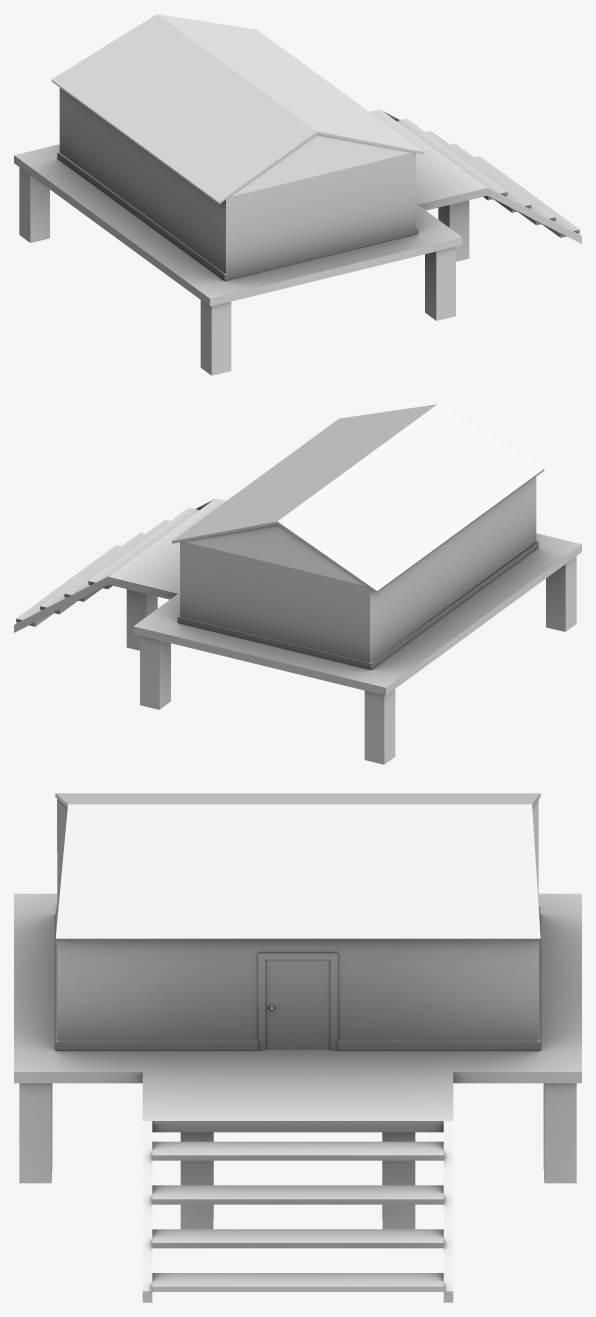
The model's file is ElectricalDep.fbx.
3 renders of one model, top to bottom at view 1: azimuth 30°, elevation 25°; view 2: azimuth 150°, elevation 25°; view 3: azimuth 270°, elevation 25°, orthographic. The views are drawn at different scales.
Parts seen in each view (by area): view 1: Электроцех; view 2: Электроцех; view 3: Электроцех.
Part boxes in pixels (<box>): Электроцех: <box>14,14,581,375</box>; Электроцех: <box>14,404,581,764</box>; Электроцех: <box>14,793,581,1302</box>.
Bounding box in the file's own units: 1.49 × 0.6909 × 1.21.
